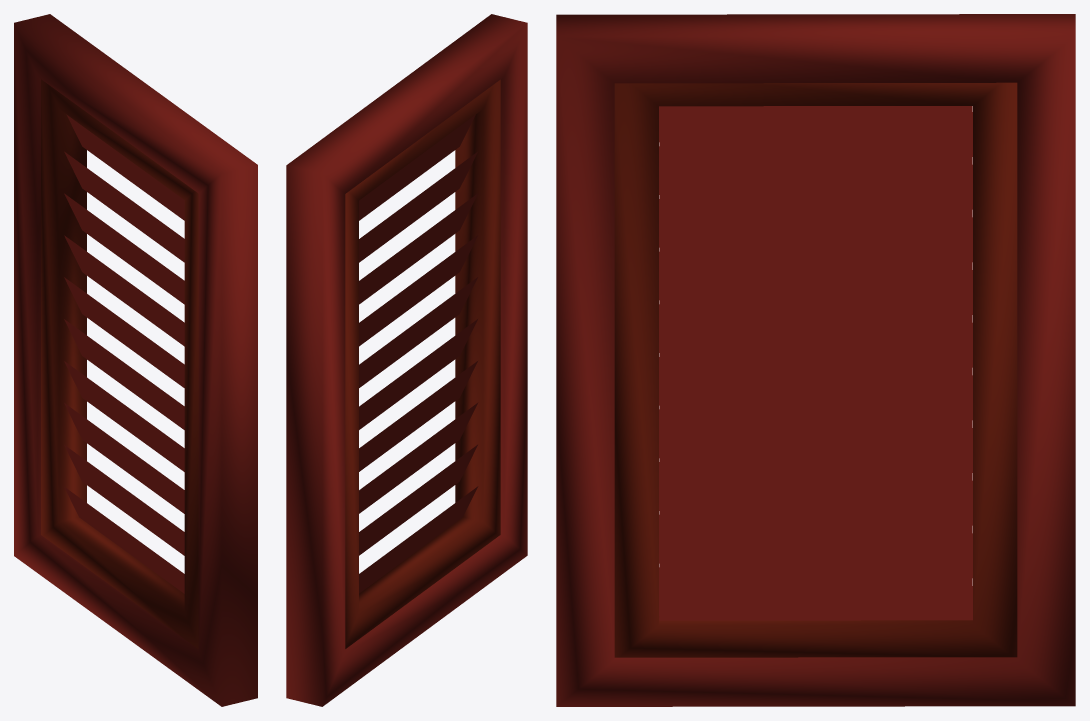
File: Window_wAlpha.fbx
3 renders of one model, left to right at view 1: azimuth 30°, elevation 25°; view 2: azimuth 150°, elevation 25°; view 3: azimuth 270°, elevation 25°, orthographic. The views are drawn at different scales.
Visible parts, largest first — view 1: Shutter.006; view 2: Shutter.006; view 3: Shutter.006.
Part boxes in pixels (x1,y1,x2,y2): Shutter.006: [14, 14, 257, 706]; Shutter.006: [286, 14, 527, 706]; Shutter.006: [556, 14, 1075, 706].
Size of the model in its own units: 0.0908 by 0.871 by 1.24.
